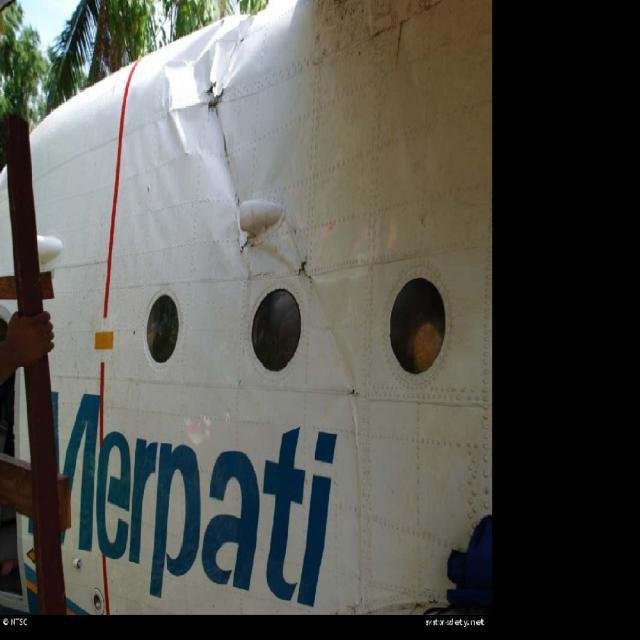crack: (202, 79, 237, 161), (292, 252, 323, 286)
